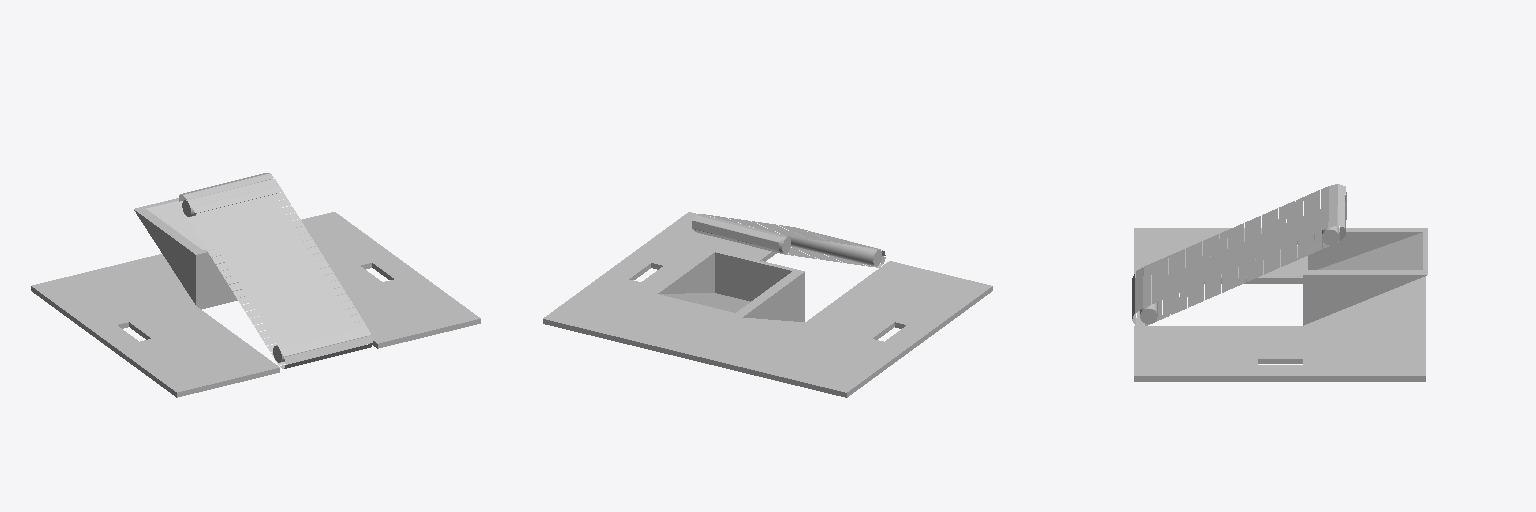
Rendered from barquidou faltan soportes ver rhino.obj.
The picture shows the model from 3 angles: view 1: azimuth 30°, elevation 25°; view 2: azimuth 150°, elevation 25°; view 3: azimuth 270°, elevation 25°; orthographic projection.
Bounding box in the file's own units: 125 × 40.33 × 106.